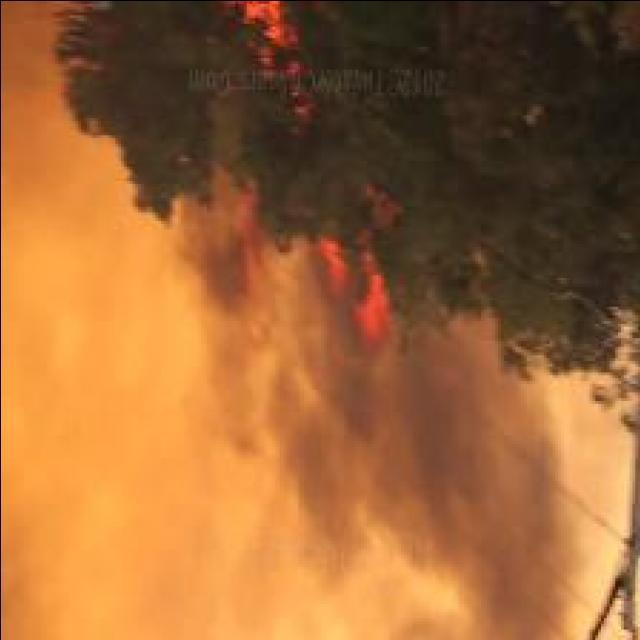Fire: (218, 0, 308, 117), (312, 225, 388, 348)
